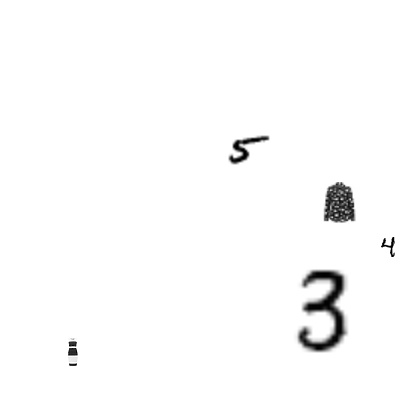3: (267, 251, 379, 363)
4: (375, 231, 403, 259)
5: (215, 120, 271, 176)
Dress: (58, 338, 86, 366)
Shirt: (318, 182, 360, 224)
